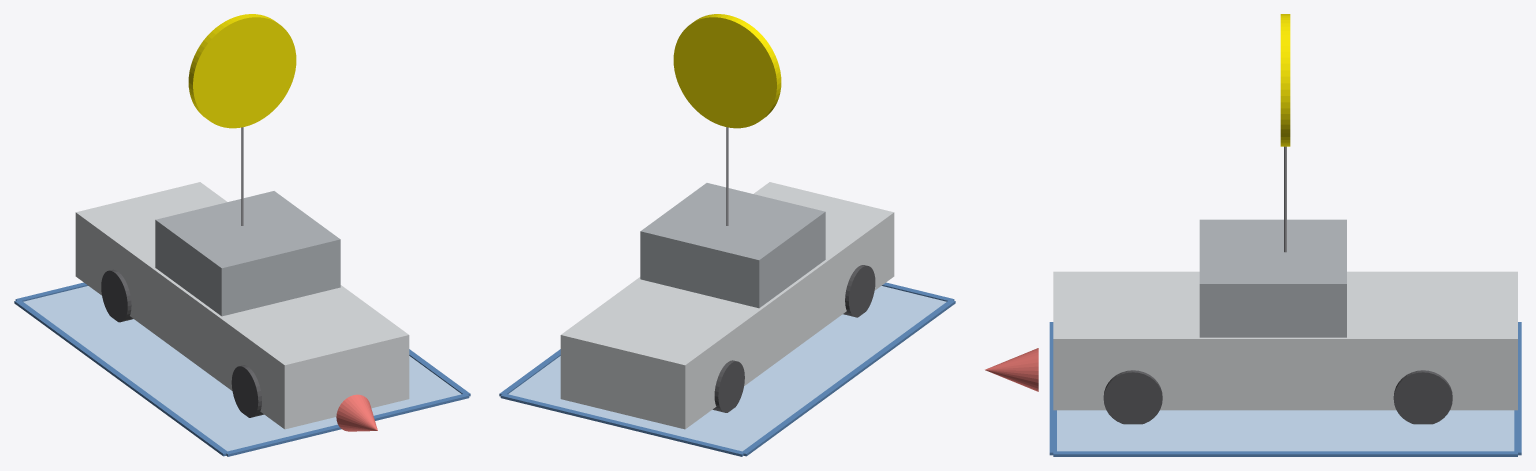
File: escena-ford.glb
3 views of the same model, side by side, from view 1: azimuth 30°, elevation 25°; view 2: azimuth 150°, elevation 25°; view 3: azimuth 270°, elevation 25° (orthographic). The views are drawn at different scales.
Visible parts, largest first — view 1: carroceria, cabina, area_189x126, posicion_logo, geometry_4, geometry_1, geometry_8, geometry_7, frente; view 2: carroceria, cabina, area_189x126, posicion_logo, geometry_4, geometry_2, geometry_8, geometry_7; view 3: carroceria, area_189x126, cabina, geometry_3, geometry_9, geometry_10, posicion_logo, frente, geometry_1, geometry_2.
Part boxes in pixels (x1,y1,x2,y2): carroceria: [75, 182, 409, 429]; cabina: [155, 191, 340, 316]; area_189x126: [23, 286, 461, 451]; posicion_logo: [188, 14, 296, 128]; geometry_4: [14, 299, 226, 456]; geometry_1: [225, 393, 469, 456]; geometry_8: [101, 269, 133, 322]; geometry_7: [231, 365, 263, 417]; frente: [336, 394, 377, 431]; carroceria: [560, 182, 894, 429]; cabina: [640, 183, 825, 308]; area_189x126: [508, 286, 946, 451]; posicion_logo: [673, 14, 781, 128]; geometry_4: [743, 299, 955, 456]; geometry_2: [500, 393, 744, 456]; geometry_8: [712, 360, 744, 412]; geometry_7: [843, 265, 875, 317]; carroceria: [1053, 271, 1517, 410]; area_189x126: [1057, 410, 1514, 451]; cabina: [1199, 219, 1346, 337]; geometry_3: [1053, 451, 1517, 456]; geometry_9: [1103, 370, 1162, 424]; geometry_10: [1393, 370, 1452, 424]; posicion_logo: [1280, 14, 1290, 146]; frente: [985, 348, 1038, 391]; geometry_1: [1049, 322, 1056, 455]; geometry_2: [1514, 322, 1521, 455].
Size of the model in its own units: 1.29 by 1.66 by 2.19.
